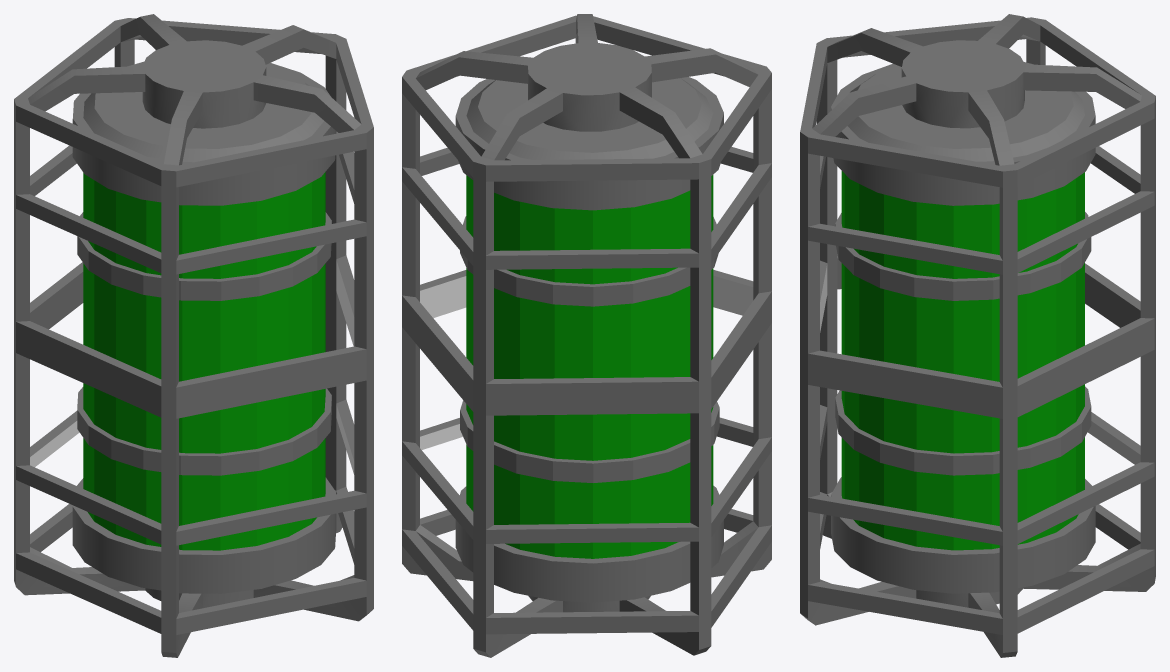
The model's file is Pick_Up_Fluid_Vat.fbx.
3 views of the same model, side by side, from view 1: azimuth 30°, elevation 25°; view 2: azimuth 150°, elevation 25°; view 3: azimuth 270°, elevation 25° (orthographic).
Visible parts, largest first — view 1: fluid_vat; view 2: fluid_vat; view 3: fluid_vat.
Boxes of the visible parts, x1,y1,x2,y2 form: fluid_vat: (14, 14, 373, 657); fluid_vat: (402, 14, 771, 657); fluid_vat: (800, 14, 1155, 657).
Size of the model in its own units: 0.4018 by 0.6278 by 0.3919.
